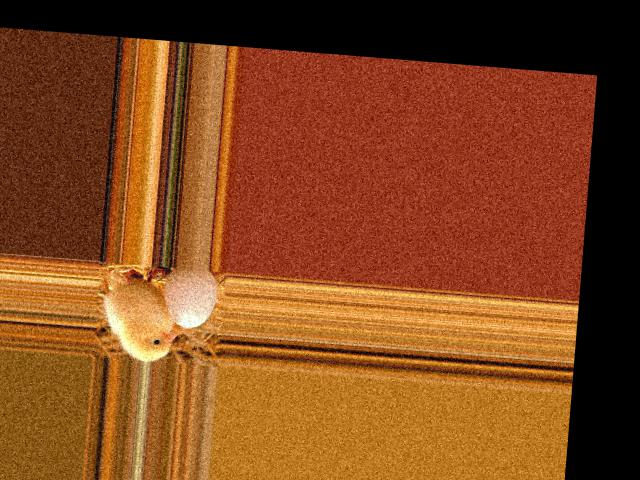egg: (161, 265, 218, 329)
